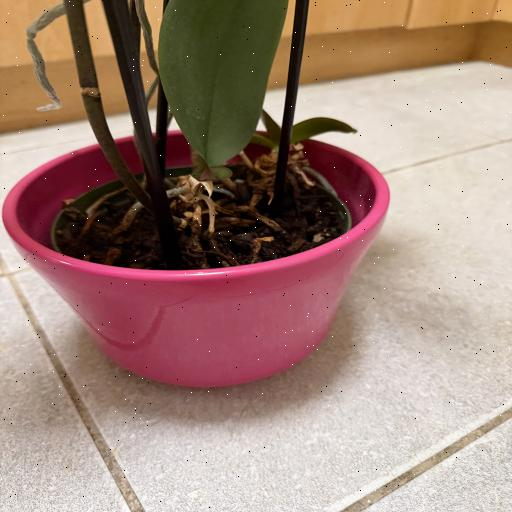Plant Pot: (2, 127, 392, 388)
